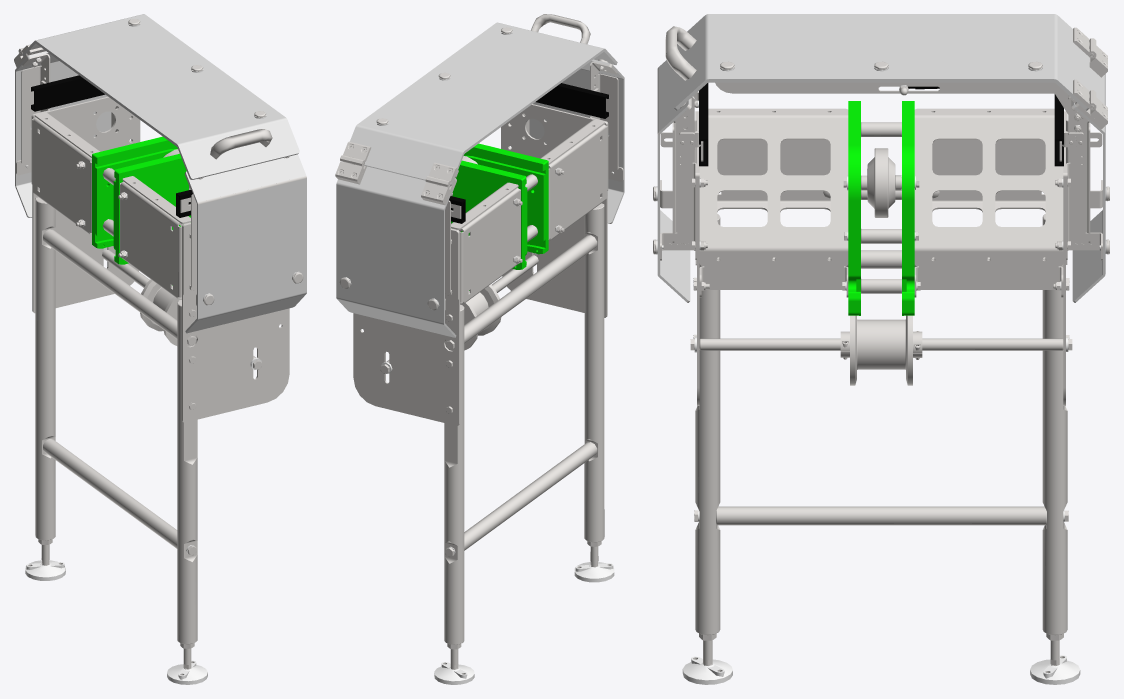
3 renders of one model, left to right at view 1: azimuth 30°, elevation 25°; view 2: azimuth 150°, elevation 25°; view 3: azimuth 270°, elevation 25°, orthographic. The views are drawn at different scales.
Parts seen in each view (by area): view 1: base, glass; view 2: base, glass; view 3: base, glass.
Boxes of the visible parts, x1,y1,x2,y2 form: base: (14, 19, 306, 684); glass: (15, 14, 306, 333); base: (335, 14, 624, 684); glass: (336, 22, 624, 337); base: (653, 26, 1109, 684); glass: (657, 14, 1105, 302).
Bounding box in the file's own units: 0.267 × 1.16 × 0.726.
1 material, 1 textured.
